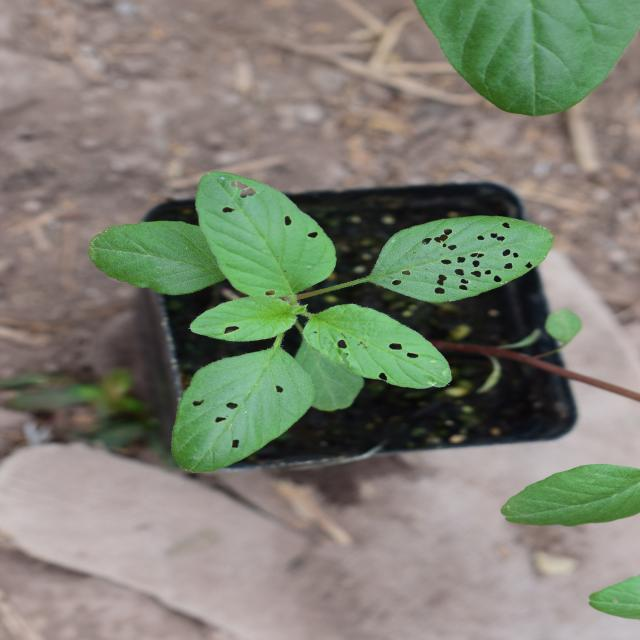pigweed: (167, 81, 461, 499)
